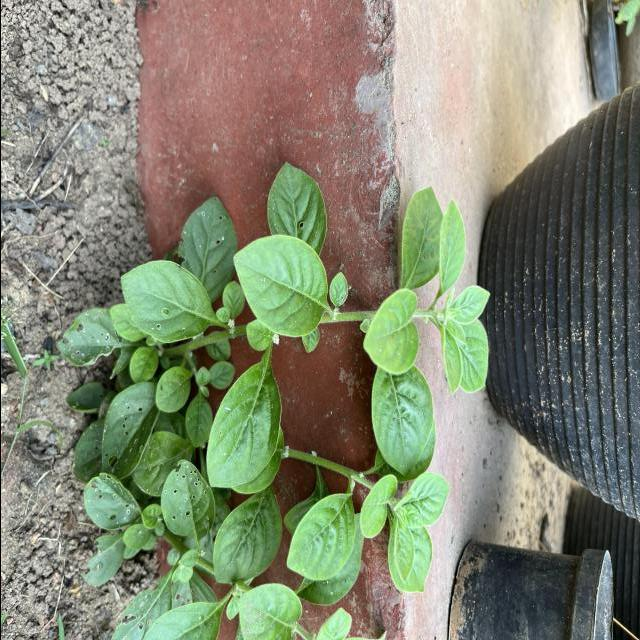Aerva lanata: (230, 232, 332, 341), (203, 356, 283, 492), (368, 363, 436, 480), (210, 486, 283, 586), (284, 488, 356, 582), (398, 184, 446, 293), (356, 472, 398, 542)
